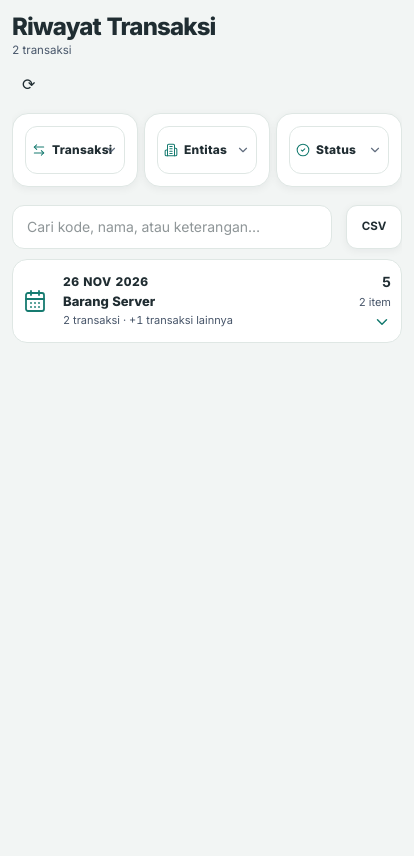
RiwayatPage remote history › menampilkan transaksi remote dan tetap menggabungkan riwayat lokal
Check: the text "Barang Server" is shown, box [63,292,155,308]
Check: the text "Barang Lokal" is not shown
Click the button "2 transaksi": [106, 281] box [12,259,402,343]
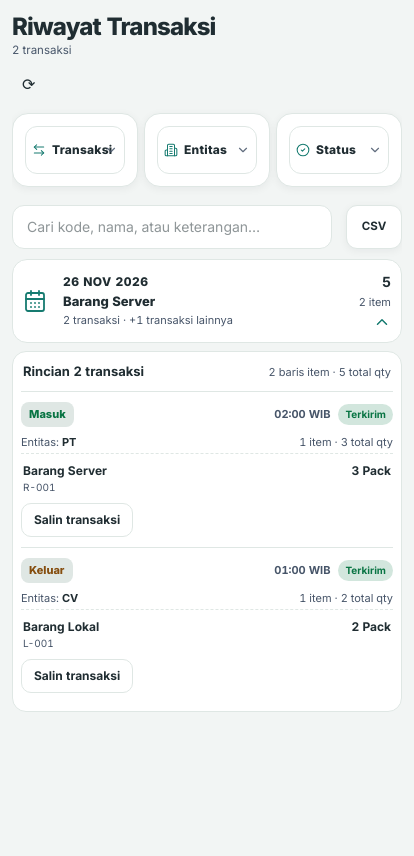
Check: the text "Barang Lokal" is shown, box [23,617,99,635]
